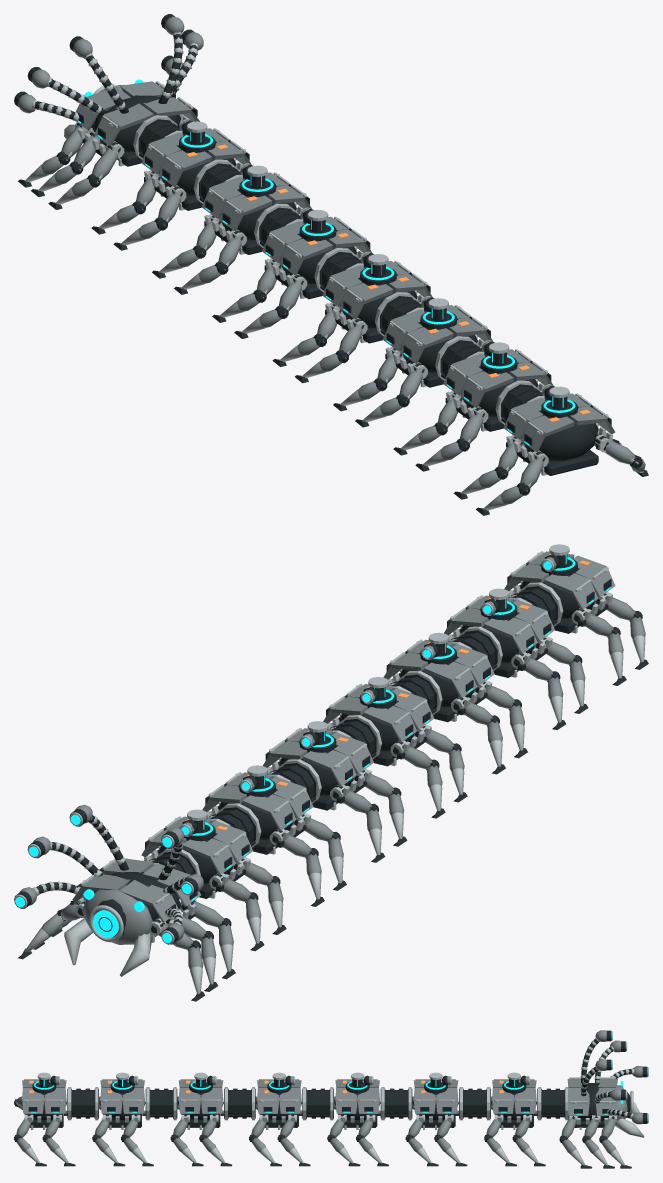
The model's file is foundry_zero_segmented_v1.glb.
3 views of the same model, one above another, from view 1: azimuth 30°, elevation 25°; view 2: azimuth 150°, elevation 25°; view 3: azimuth 270°, elevation 25° (orthographic). The views are drawn at different scales.
Visible parts, largest first — view 1: FZ_BODY_07_SHELL, FZ_HEAD_SHELL, FZ_BODY_04_SHELL, FZ_BODY_05_SHELL, FZ_BODY_06_SHELL, FZ_BODY_03_SHELL, FZ_BODY_01_SHELL, FZ_BODY_02_SHELL, FZ_BODY_01_CONNECTOR_MESH, FZ_BODY_06_CONNECTOR_MESH, FZ_BODY_04_CONNECTOR_MESH, FZ_BODY_07_CONNECTOR_MESH (+8 smaller); view 2: FZ_HEAD_SHELL, FZ_BODY_03_SHELL, FZ_BODY_02_SHELL, FZ_BODY_07_SHELL, FZ_BODY_04_SHELL, FZ_BODY_06_SHELL, FZ_BODY_05_SHELL, FZ_BODY_01_SHELL, FZ_BODY_07_CONNECTOR_MESH, FZ_BODY_03_CONNECTOR_MESH, FZ_BODY_05_CONNECTOR_MESH, FZ_BODY_06_CONNECTOR_MESH (+7 smaller); view 3: FZ_HEAD_SHELL, FZ_BODY_03_SHELL, FZ_BODY_05_SHELL, FZ_BODY_02_SHELL, FZ_BODY_06_SHELL, FZ_BODY_01_SHELL, FZ_BODY_07_SHELL, FZ_BODY_04_SHELL, FZ_BODY_06_CONNECTOR_MESH, FZ_BODY_03_CONNECTOR_MESH, FZ_BODY_02_CONNECTOR_MESH, FZ_BODY_05_CONNECTOR_MESH (+28 smaller).
Part boxes in pixels (x1,y1,x2,y2): FZ_BODY_07_SHELL: (503, 386, 615, 475); FZ_HEAD_SHELL: (64, 79, 199, 166); FZ_BODY_04_SHELL: (322, 254, 432, 343); FZ_BODY_05_SHELL: (383, 298, 493, 387); FZ_BODY_06_SHELL: (443, 342, 553, 431); FZ_BODY_03_SHELL: (262, 210, 372, 299); FZ_BODY_01_SHELL: (141, 121, 251, 210); FZ_BODY_02_SHELL: (202, 165, 311, 254); FZ_BODY_01_CONNECTOR_MESH: (133, 115, 182, 159); FZ_BODY_06_CONNECTOR_MESH: (435, 336, 484, 380); FZ_BODY_04_CONNECTOR_MESH: (314, 248, 363, 292); FZ_BODY_07_CONNECTOR_MESH: (495, 380, 544, 424); FZ_HEAD_SHELL: (64, 858, 200, 976); FZ_BODY_03_SHELL: (263, 721, 373, 810); FZ_BODY_02_SHELL: (202, 765, 313, 854); FZ_BODY_07_SHELL: (504, 544, 615, 633); FZ_BODY_04_SHELL: (323, 677, 434, 766); FZ_BODY_06_SHELL: (444, 588, 554, 677); FZ_BODY_05_SHELL: (383, 632, 494, 722); FZ_BODY_01_SHELL: (141, 809, 252, 898); FZ_BODY_07_CONNECTOR_MESH: (509, 582, 563, 626); FZ_BODY_03_CONNECTOR_MESH: (268, 759, 321, 803); FZ_BODY_05_CONNECTOR_MESH: (388, 670, 442, 715); FZ_BODY_06_CONNECTOR_MESH: (449, 626, 502, 670); FZ_HEAD_SHELL: (567, 1077, 644, 1137); FZ_BODY_03_SHELL: (334, 1072, 380, 1129); FZ_BODY_05_SHELL: (178, 1072, 223, 1129); FZ_BODY_02_SHELL: (413, 1072, 458, 1129); FZ_BODY_06_SHELL: (99, 1072, 145, 1129); FZ_BODY_01_SHELL: (491, 1072, 536, 1129); FZ_BODY_07_SHELL: (21, 1072, 66, 1129); FZ_BODY_04_SHELL: (256, 1072, 301, 1129); FZ_BODY_06_CONNECTOR_MESH: (145, 1087, 177, 1120); FZ_BODY_03_CONNECTOR_MESH: (380, 1087, 412, 1120); FZ_BODY_02_CONNECTOR_MESH: (459, 1087, 490, 1120); FZ_BODY_05_CONNECTOR_MESH: (224, 1087, 255, 1120).
Size of the model in its own units: 5.5 by 4.29 by 25.94.
